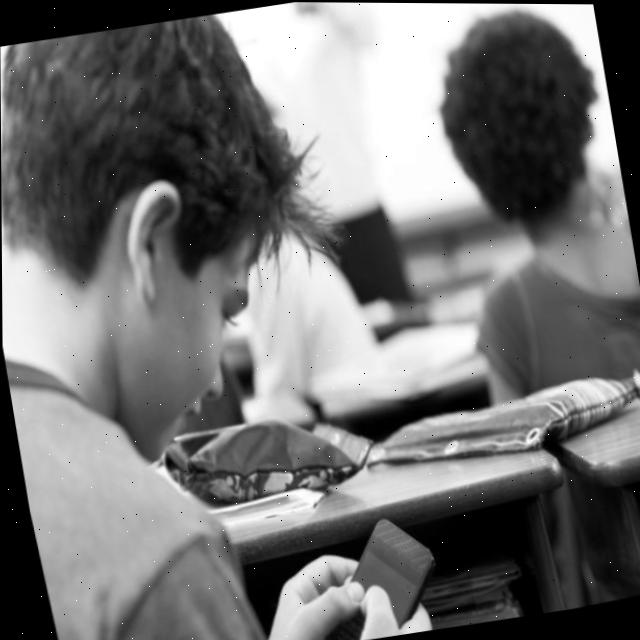phone: (290, 505, 450, 640)
